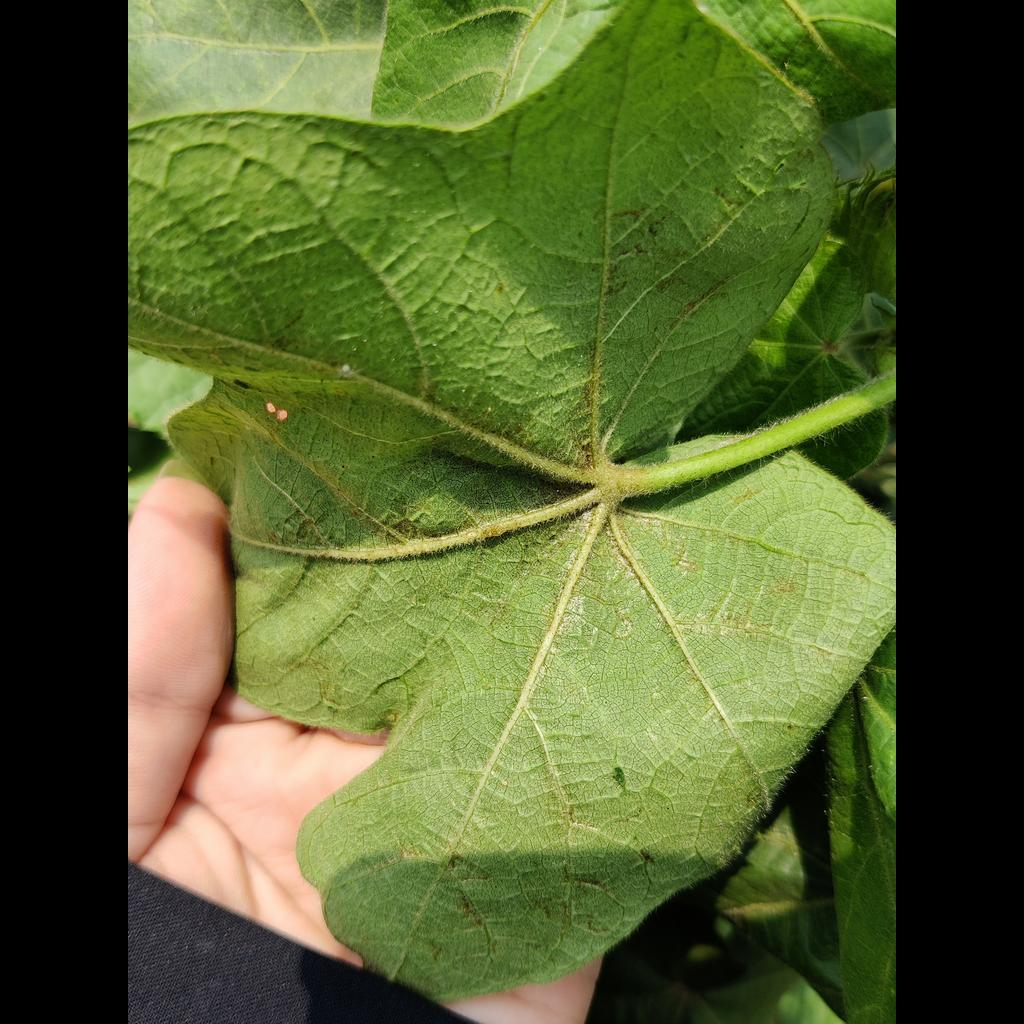nymph: (341, 364, 350, 373)
